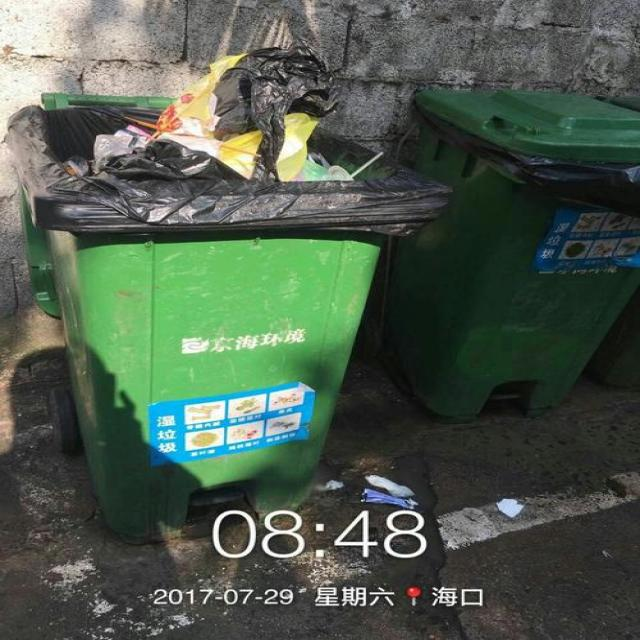garbage_bin: (379, 88, 639, 422)
overflow: (2, 39, 452, 538)
